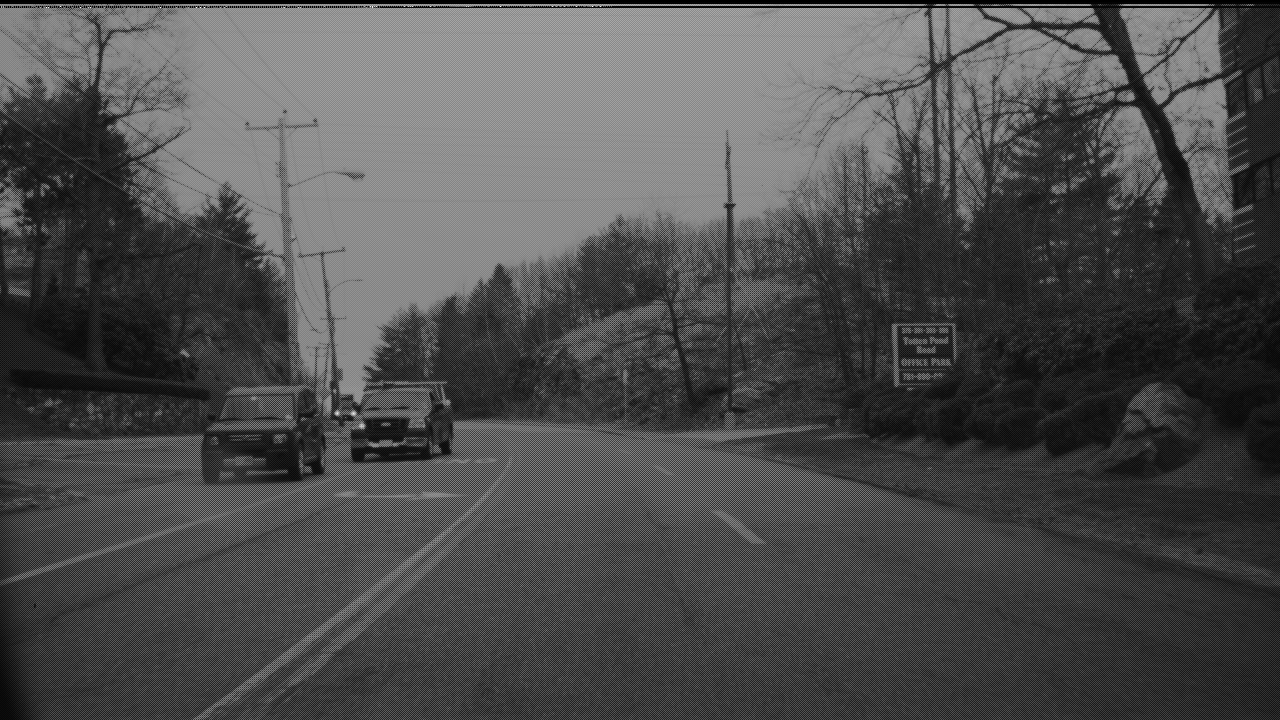pole: (278, 111, 296, 380), (722, 129, 729, 406)
